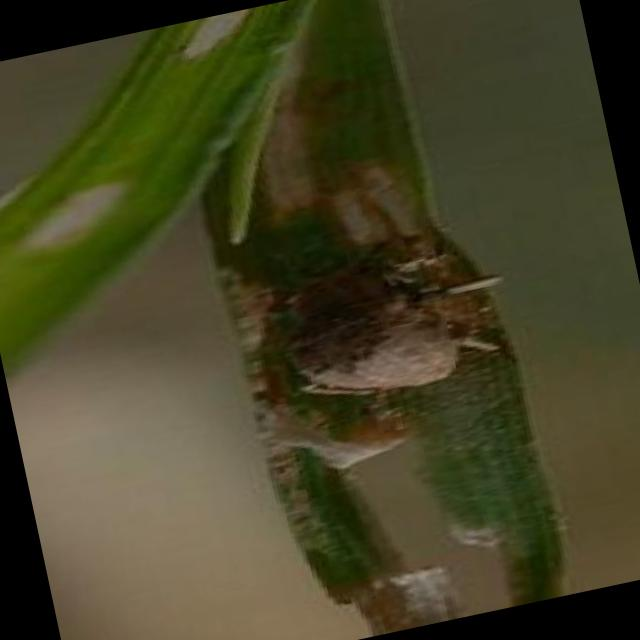rice-bug: (232, 216, 498, 419)
